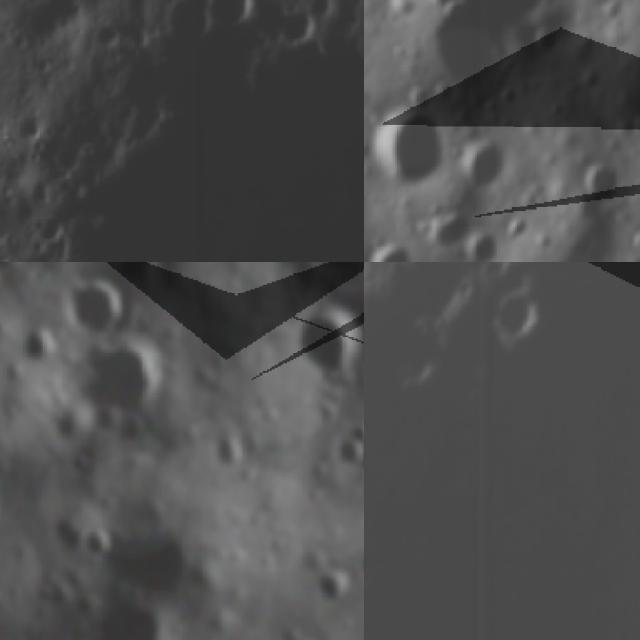crater: (47, 35, 364, 262), (103, 496, 220, 604), (70, 340, 170, 439), (295, 296, 364, 394), (366, 107, 448, 187), (58, 281, 138, 345), (84, 592, 168, 640), (265, 0, 331, 57), (487, 278, 541, 346), (571, 154, 625, 210), (457, 139, 508, 194), (427, 203, 474, 254), (312, 562, 353, 616), (207, 0, 267, 36), (8, 326, 51, 372), (13, 106, 54, 152), (528, 19, 570, 59), (215, 432, 252, 472), (76, 527, 112, 564), (459, 234, 505, 262), (364, 238, 415, 262), (333, 433, 364, 472), (426, 73, 459, 108), (381, 0, 418, 23), (404, 82, 432, 111), (417, 0, 469, 15), (0, 262, 31, 284), (625, 229, 640, 254), (630, 108, 640, 144)
